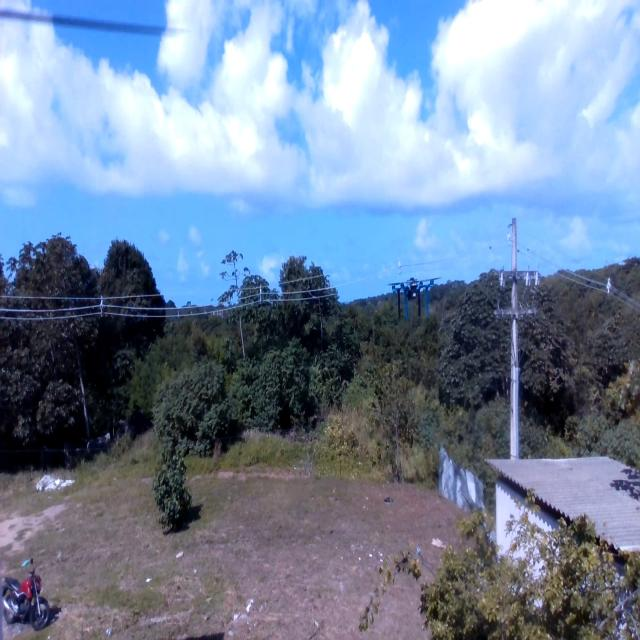-uav-: (387, 262, 458, 344)
